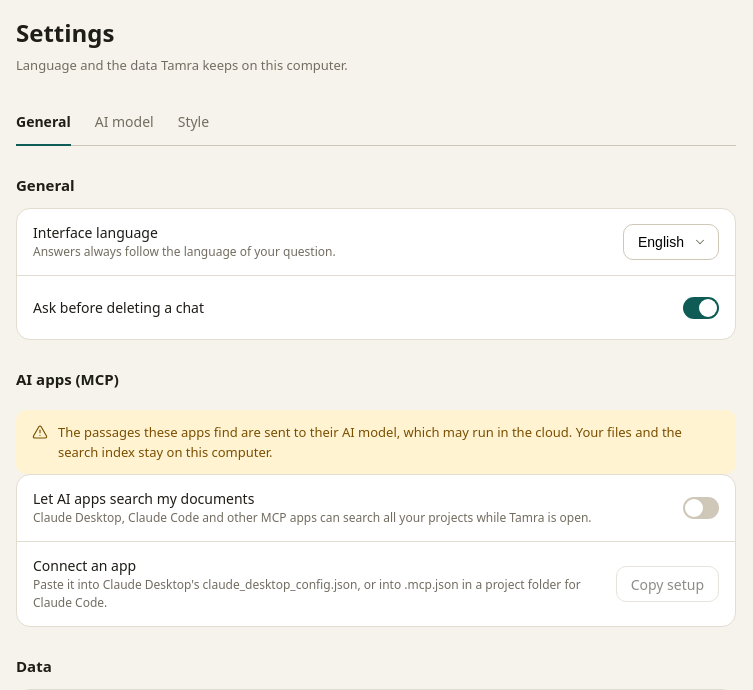
Test: General tab › puts the old value back and shows the reason when a setting is refused
Select "ไทย" in the dropdown named "Interface language": (671,242) [623,224,719,260]
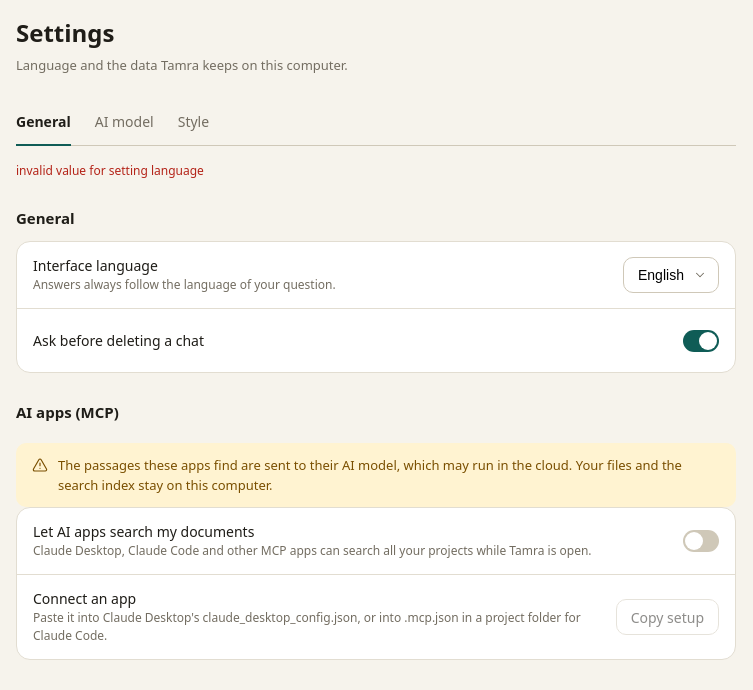
Expected: the heading "Settings" is shown, [16,16,114,49]
Result: the message "invalid value for setting language" is shown at [16,162,204,179]
